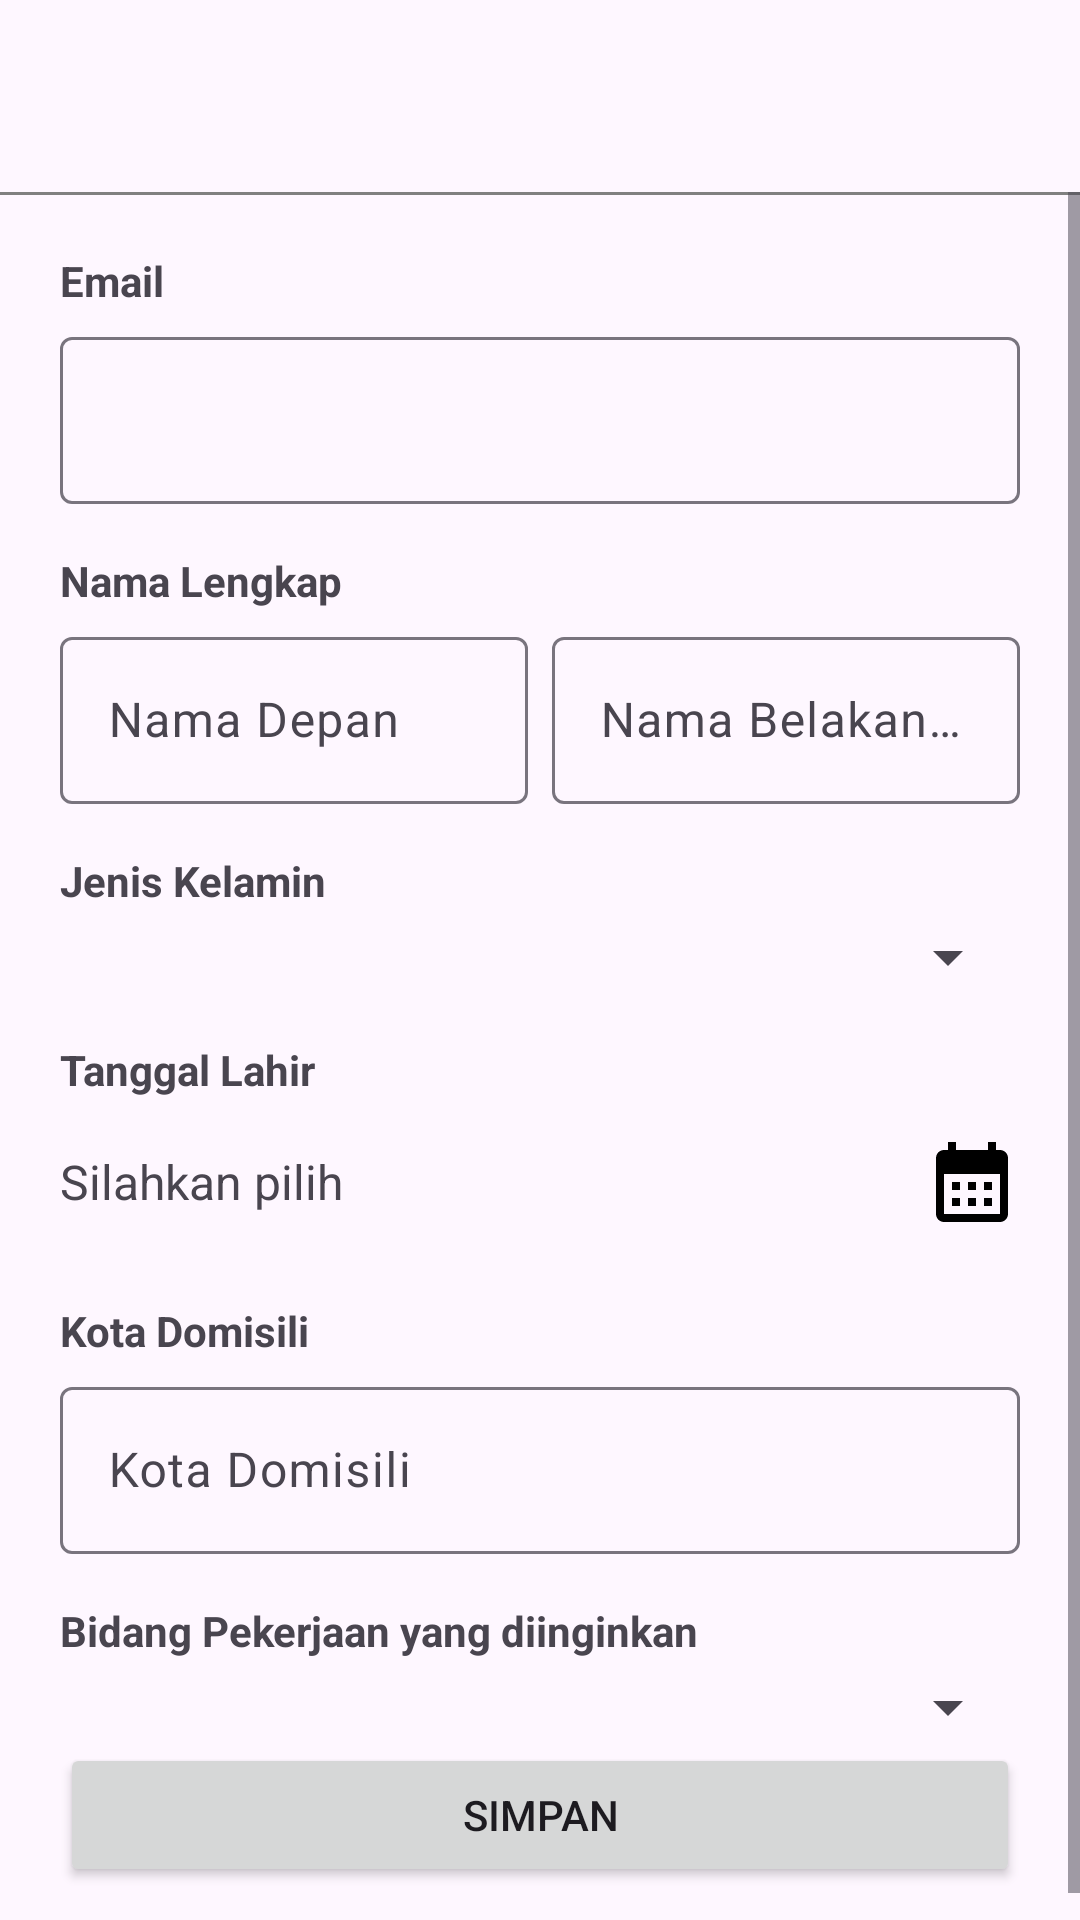

Where icons sit on this 1080*1920 app screen, as (x1, y1, x2, y2):
Tanggal Lahir: (936, 1142, 1008, 1222)
